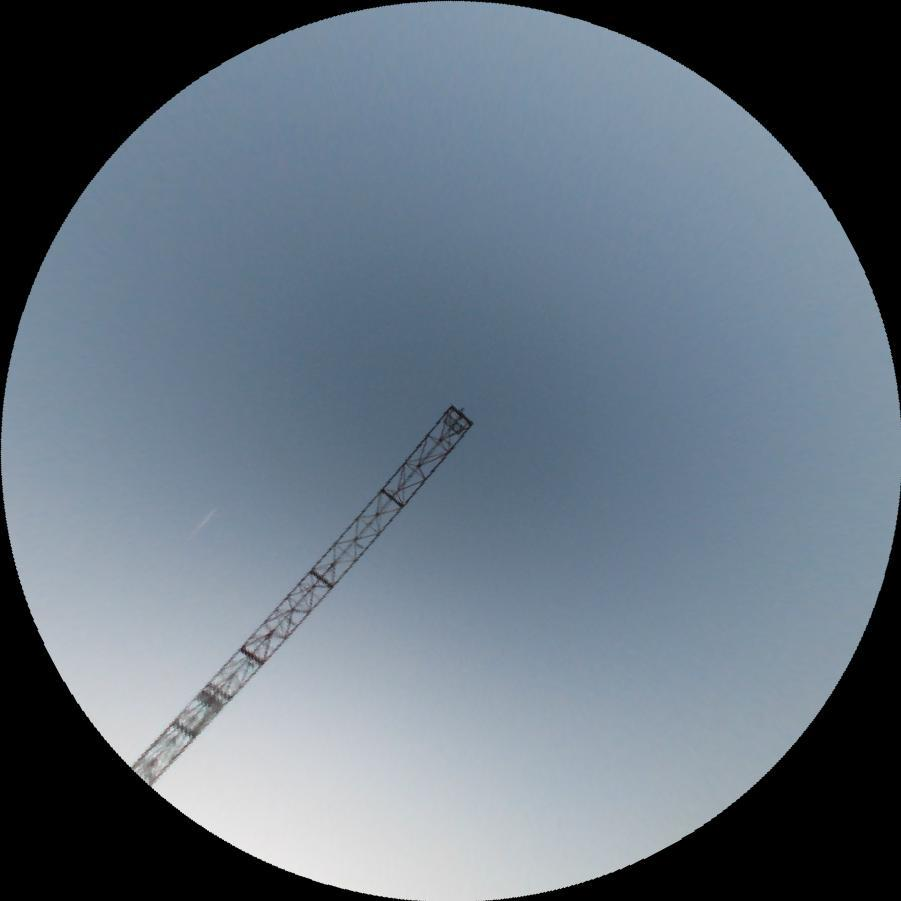contrail young: (183, 506, 218, 543)
